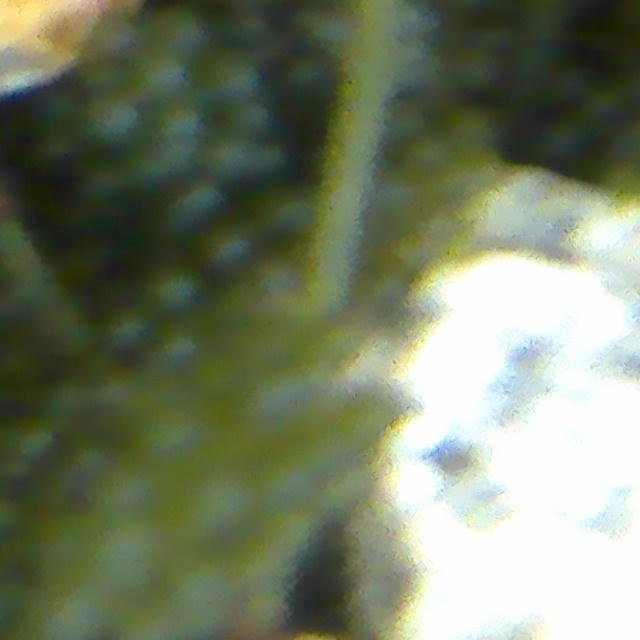SeaGrape: (87, 509, 173, 597), (162, 550, 246, 640), (180, 462, 266, 546), (26, 580, 113, 640), (153, 5, 208, 60), (147, 263, 203, 316), (85, 91, 139, 144), (207, 51, 261, 103), (170, 179, 223, 230), (137, 49, 187, 100), (157, 103, 203, 149)
